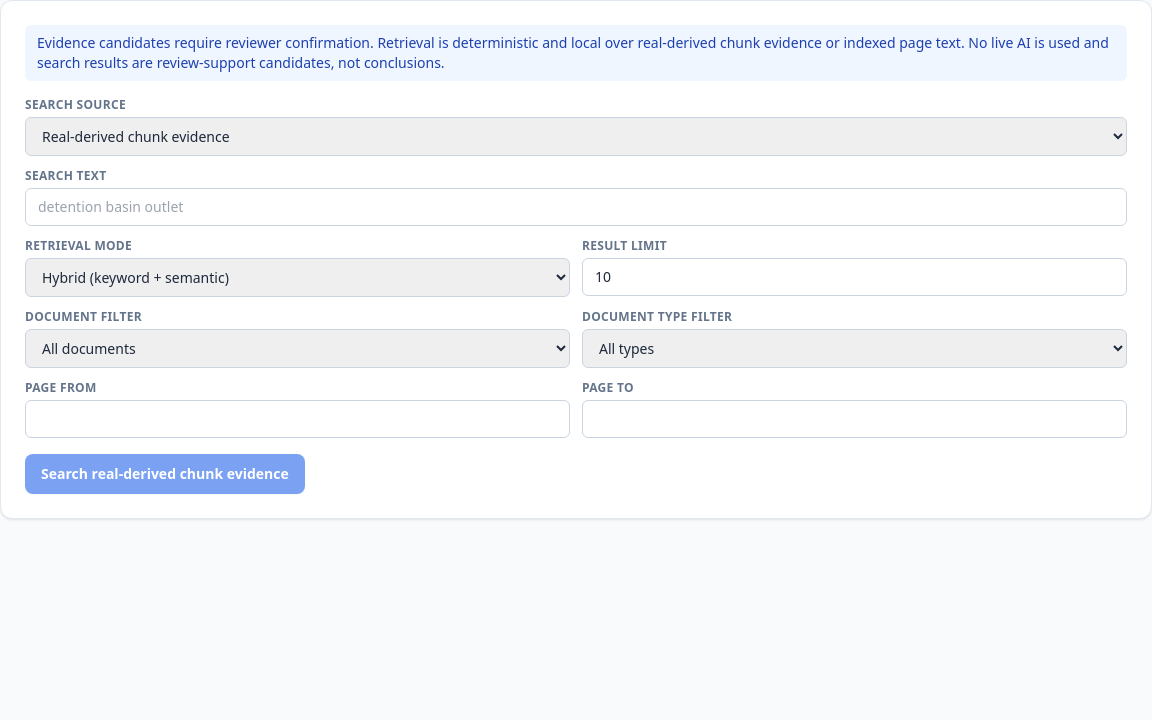
it: Evidence search client › shows an honest empty-state message that does not imply absence
Type "nomatch" into the field with placeholder "detention basin outlet" at (576, 207), box x1=25 y1=188 x2=1127 y2=226
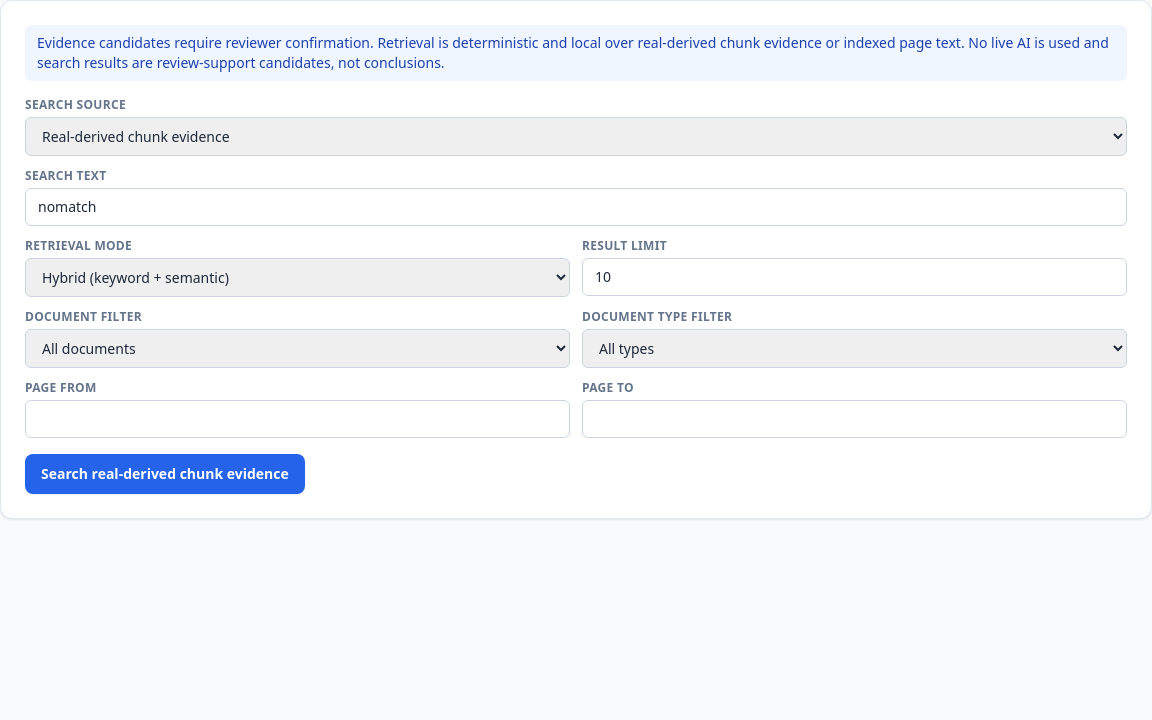
Click the button "Search real-derived chunk evidence" at (165, 474), box x1=25 y1=454 x2=305 y2=494
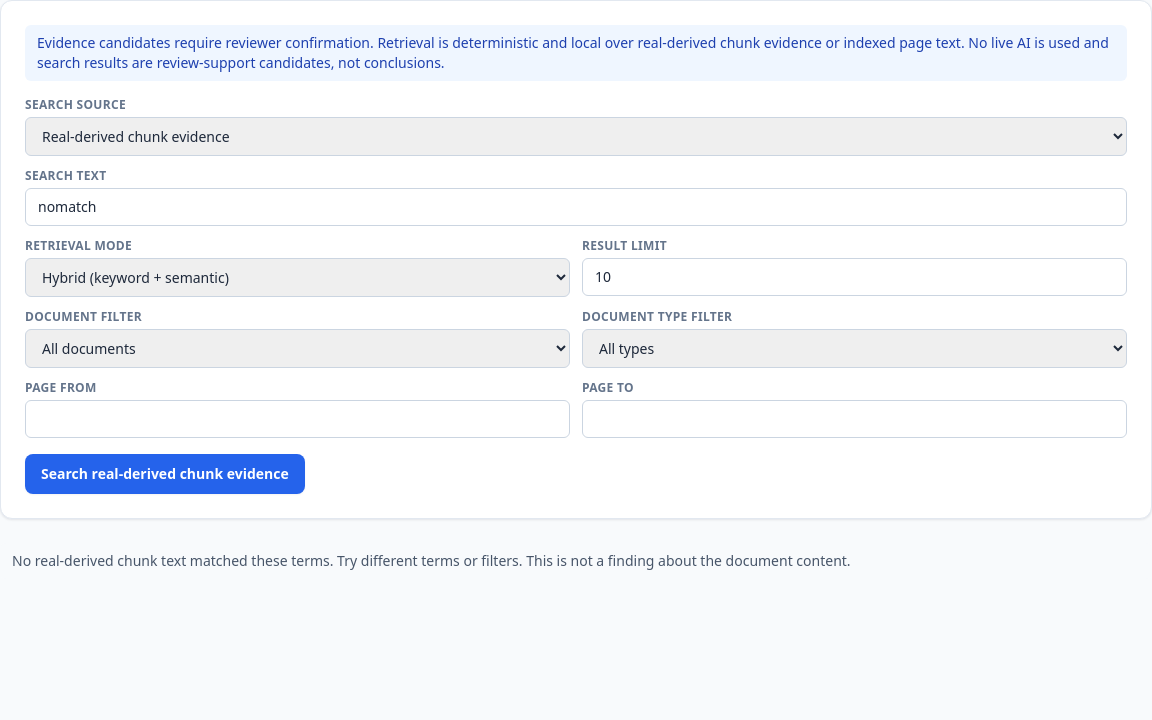
Expected: the text "not a finding about the document content" is shown, x1=12 y1=551 x2=851 y2=570
